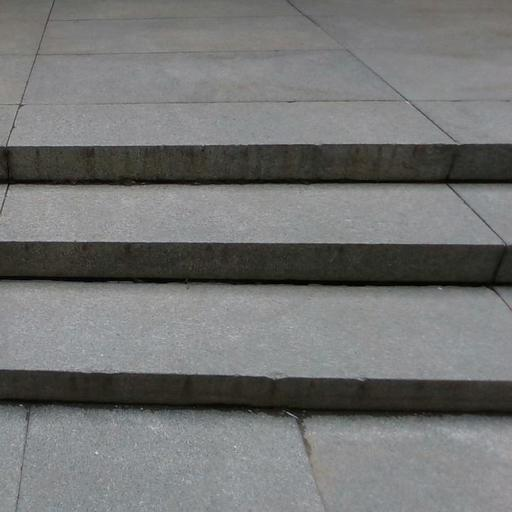stairs: (0, 179, 511, 411)
